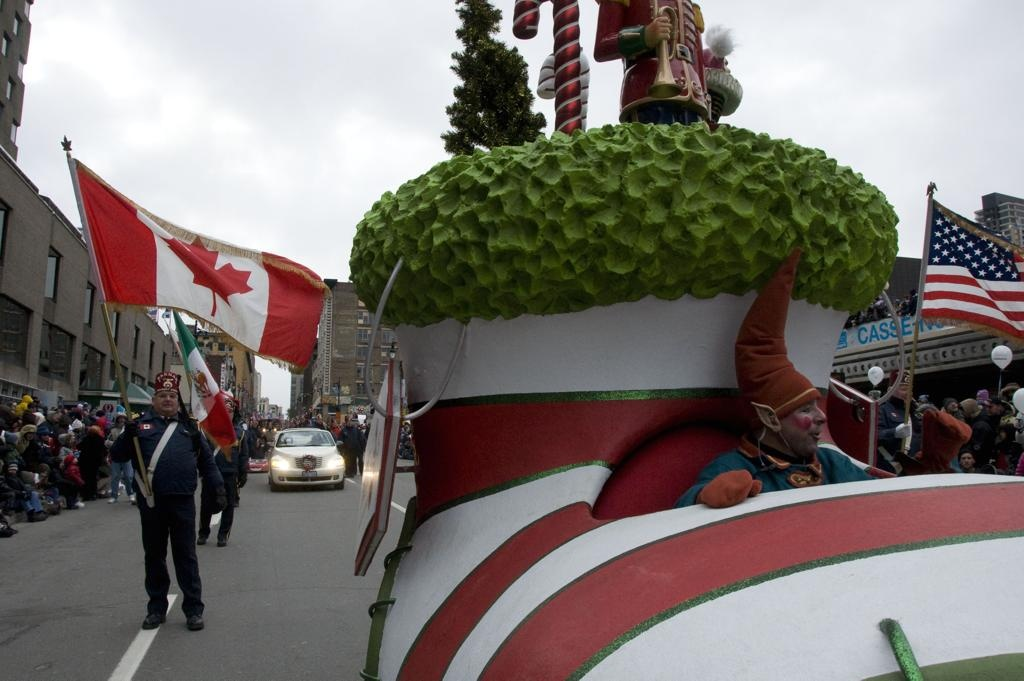human_face: (778, 390, 826, 450), (154, 388, 178, 412), (894, 381, 912, 401), (961, 453, 973, 467), (986, 400, 998, 414), (946, 400, 958, 410), (67, 433, 75, 443), (118, 416, 126, 426), (224, 400, 232, 410), (51, 412, 59, 420), (40, 431, 48, 438), (274, 421, 280, 429)
